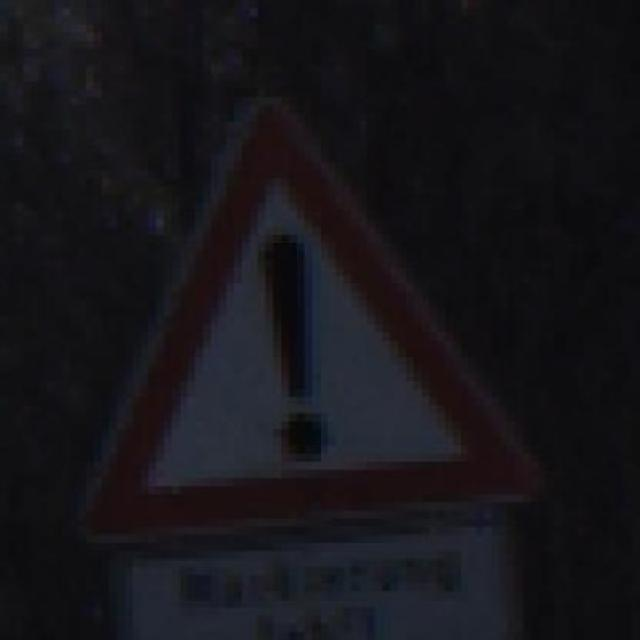Attention Please-: (55, 81, 547, 559)
